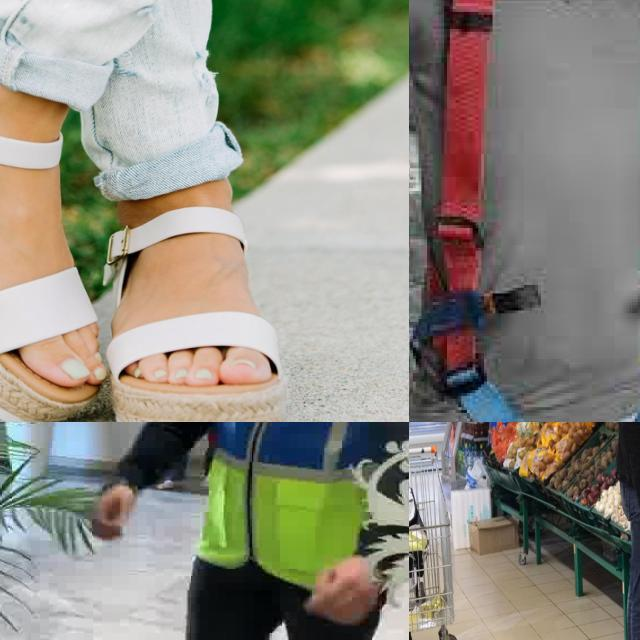Harness: (420, 0, 640, 422)
Sandals: (89, 152, 297, 422), (0, 51, 114, 422)
hand_noglove: (304, 556, 379, 625), (94, 483, 137, 540)
